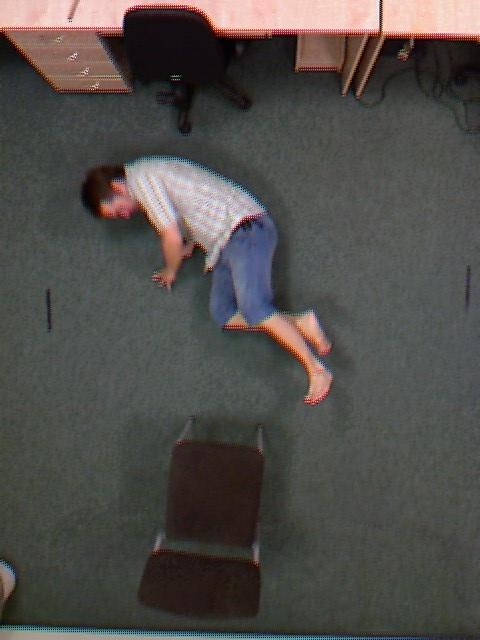fall: (112, 106, 303, 454)
